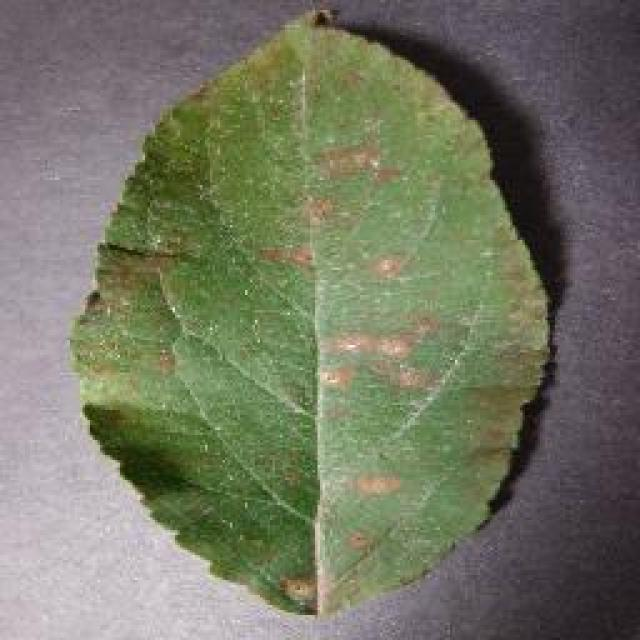App_Cedar_apple_rust: (259, 136, 455, 426)
